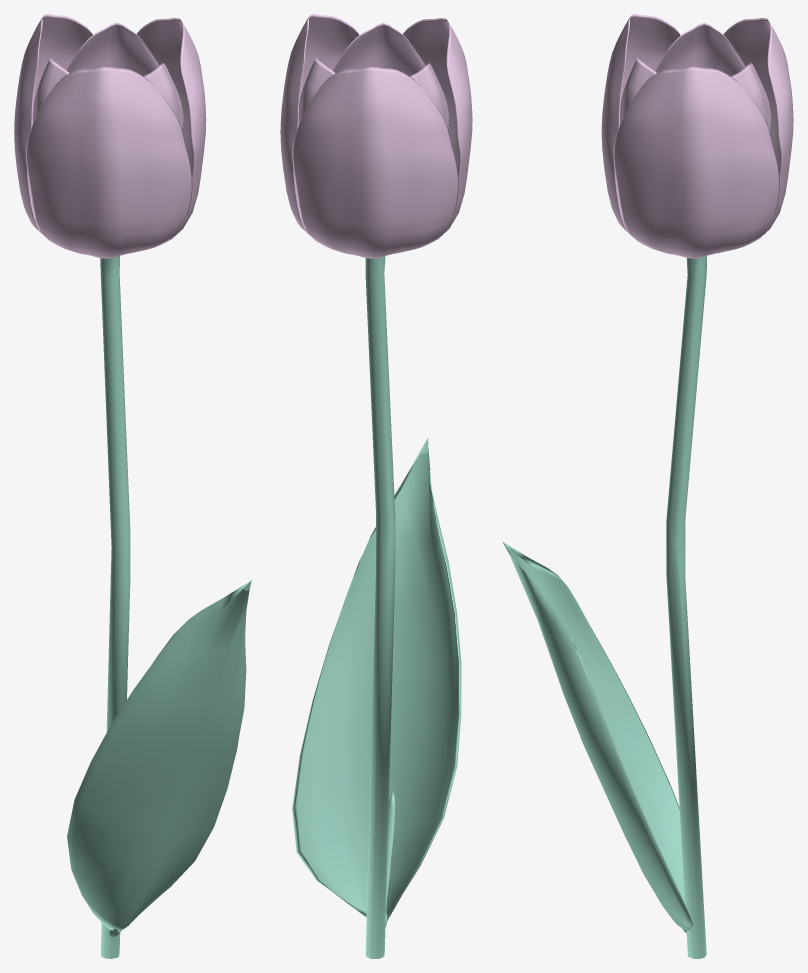
The model's file is tulip1JOINED.glb.
3 views of the same model, side by side, from view 1: azimuth 30°, elevation 25°; view 2: azimuth 150°, elevation 25°; view 3: azimuth 270°, elevation 25° (orthographic).
Visible parts, largest first — view 1: Plane.005, Cylinder, Cylinder.003; view 2: Cylinder, Plane.005, Cylinder.003; view 3: Plane.005, Cylinder, Cylinder.003.
Part boxes in pixels (left/top/right/bottom): Plane.005: left=14, top=14, right=206, bottom=258; Cylinder: left=67, top=580, right=251, bottom=937; Cylinder.003: left=100, top=256, right=130, bottom=958; Cylinder: left=292, top=438, right=461, bottom=927; Plane.005: left=280, top=14, right=472, bottom=258; Cylinder.003: left=365, top=256, right=395, bottom=958; Plane.005: left=601, top=14, right=793, bottom=258; Cylinder: left=502, top=542, right=693, bottom=932; Cylinder.003: left=666, top=256, right=706, bottom=958.
Bounding box in the file's own units: 1.08 × 5.27 × 1.51.
